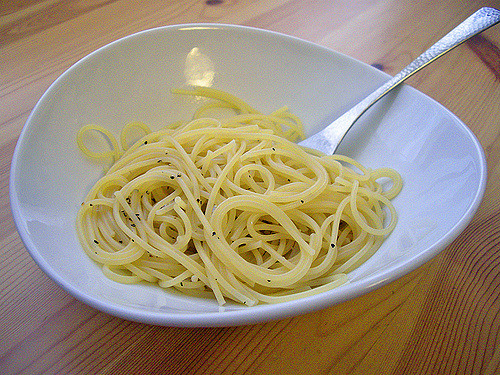plain spaghetti: (122, 142, 369, 261)
